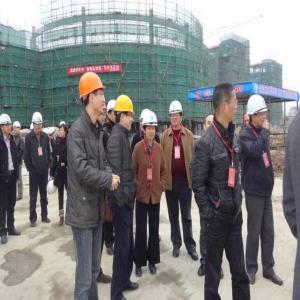none: (212, 82, 240, 127), (59, 124, 69, 141)
white: (247, 92, 269, 129), (168, 101, 186, 131), (143, 112, 159, 142), (32, 111, 44, 135), (2, 114, 12, 137), (13, 121, 21, 137)
yellow: (77, 69, 107, 114), (115, 94, 135, 133)
